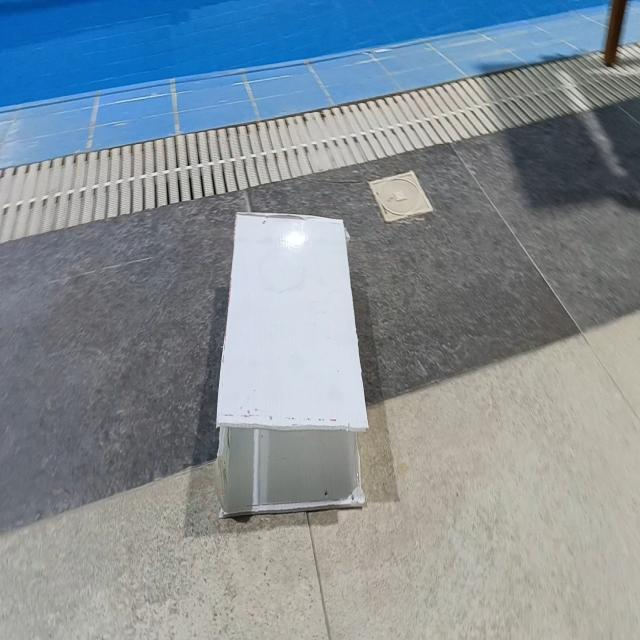Cuboid: (214, 210, 369, 518)
